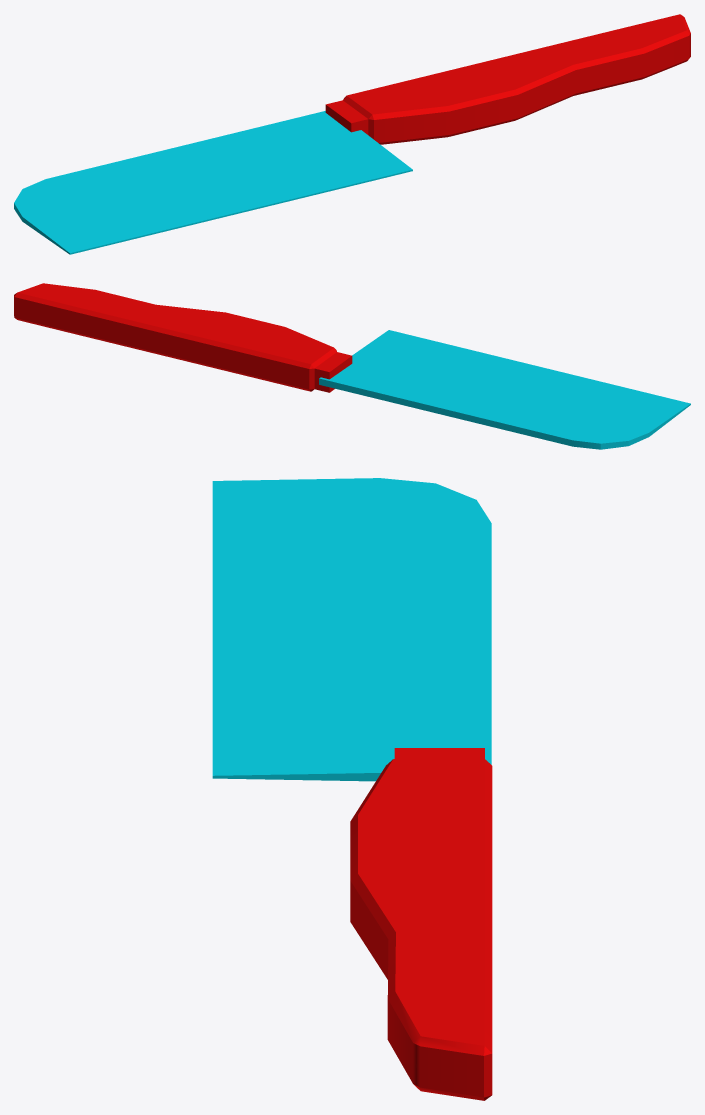
File: Knife_2.fbx
3 views of the same model, one above another, from view 1: azimuth 30°, elevation 25°; view 2: azimuth 150°, elevation 25°; view 3: azimuth 270°, elevation 25° (orthographic). The views are drawn at different scales.
Parts seen in each view (by area): view 1: Knife_2; view 2: Knife_2; view 3: Knife_2.
Boxes of the visible parts, x1,y1,x2,y2 form: Knife_2: (14,14,690,254); Knife_2: (14,283,690,449); Knife_2: (212,478,492,1100).
Bounding box in the file's own units: 202 × 8.7 × 40.12.
